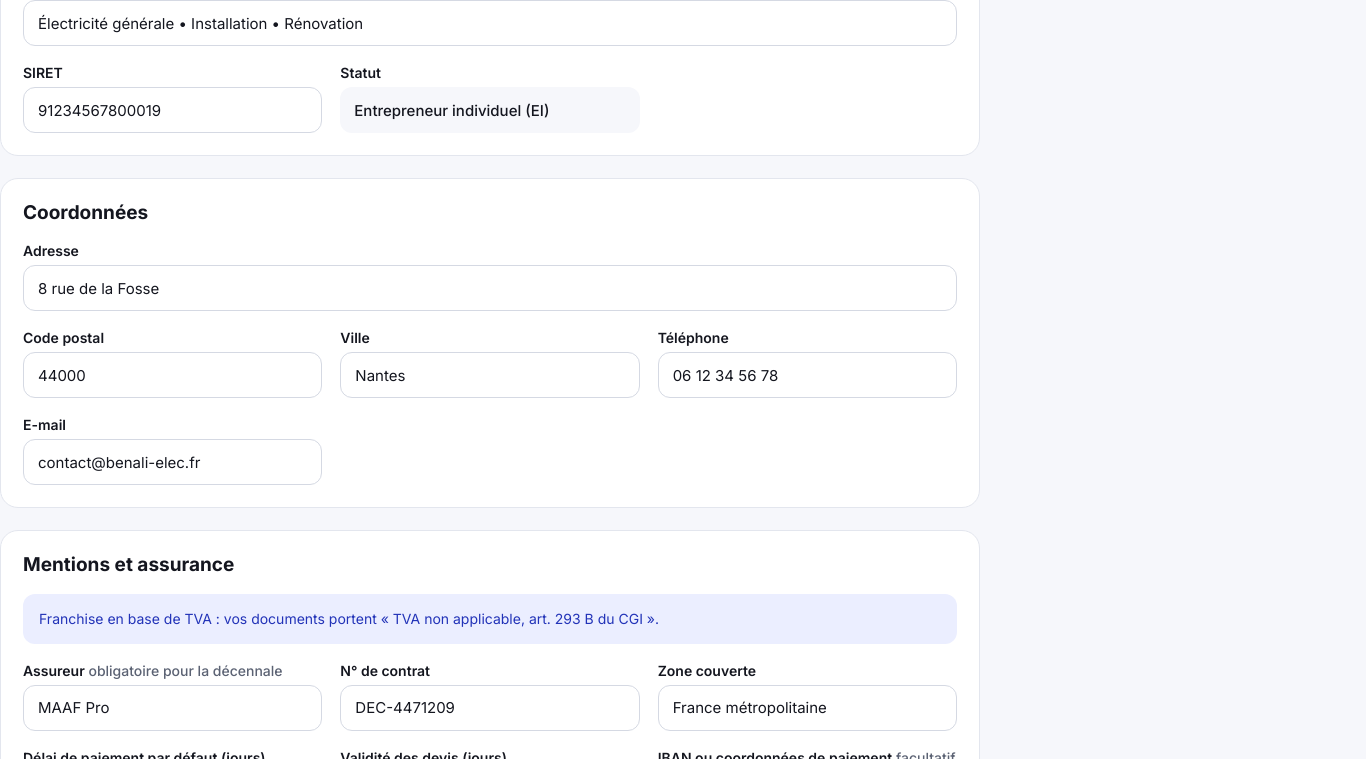
Test: demande confirmation avant de quitter un profil modifié
(page scrolled)
Type " Centre" into the field labelled "Ville" at [490, 375], box left=340, top=352, right=640, bottom=398
(page scrolled)
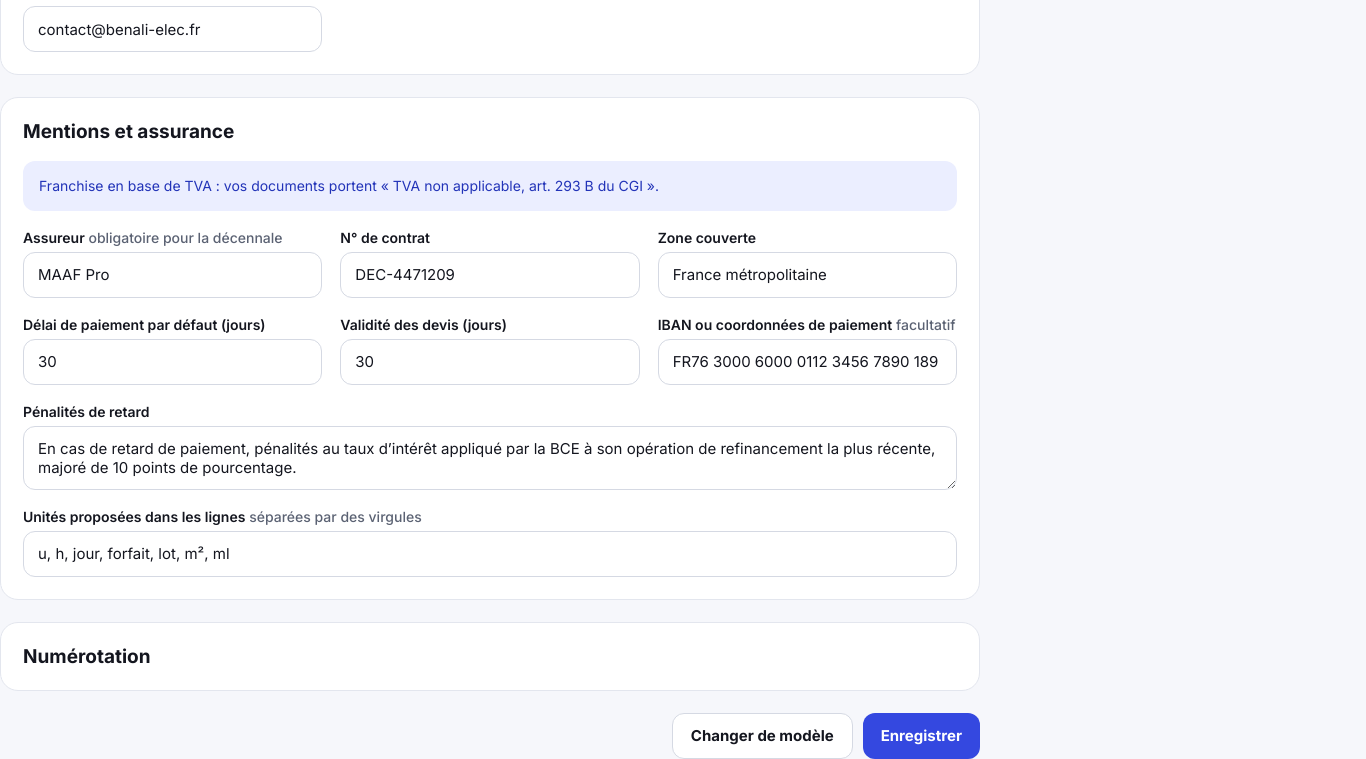
Click the link "Changer de modèle" at [762, 736], box left=672, top=713, right=853, bottom=758
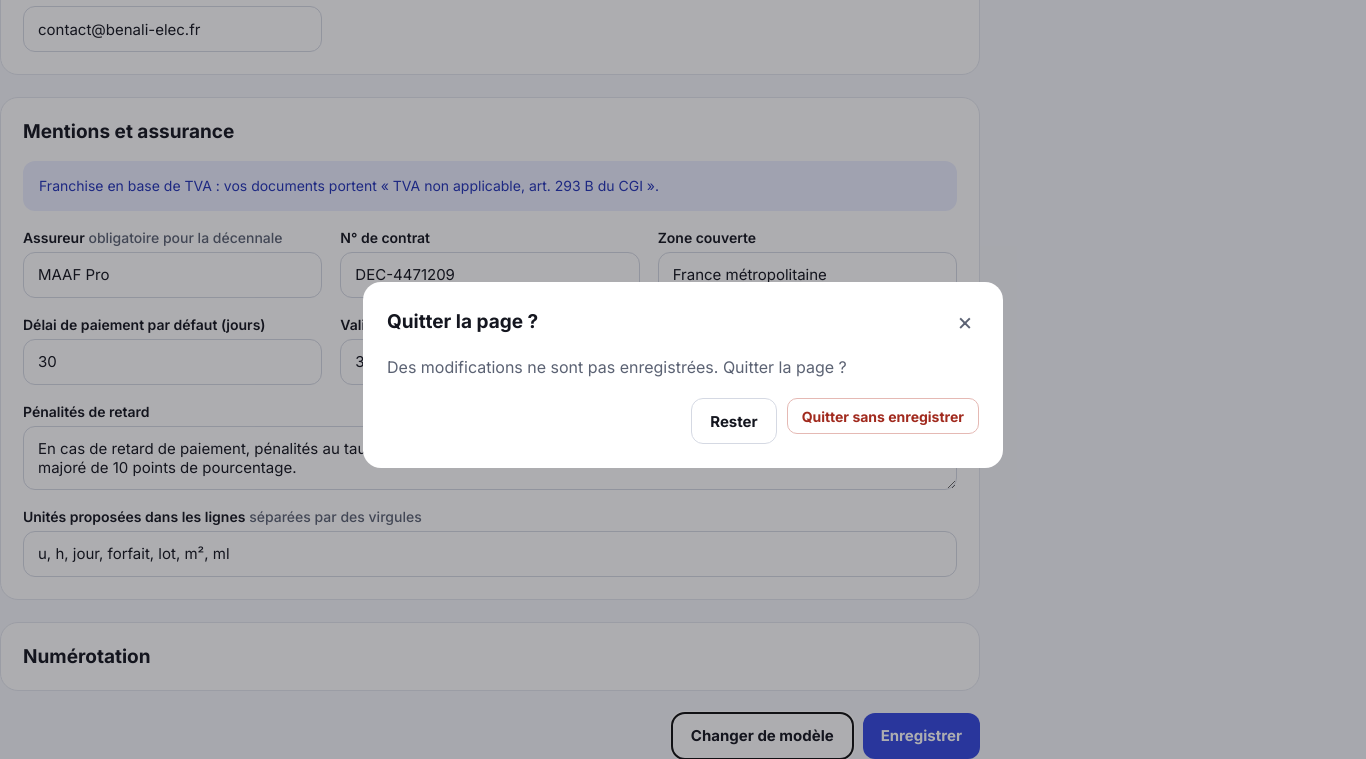
Check: the dialog "Quitter la page ?" is shown, box left=363, top=282, right=1003, bottom=468
